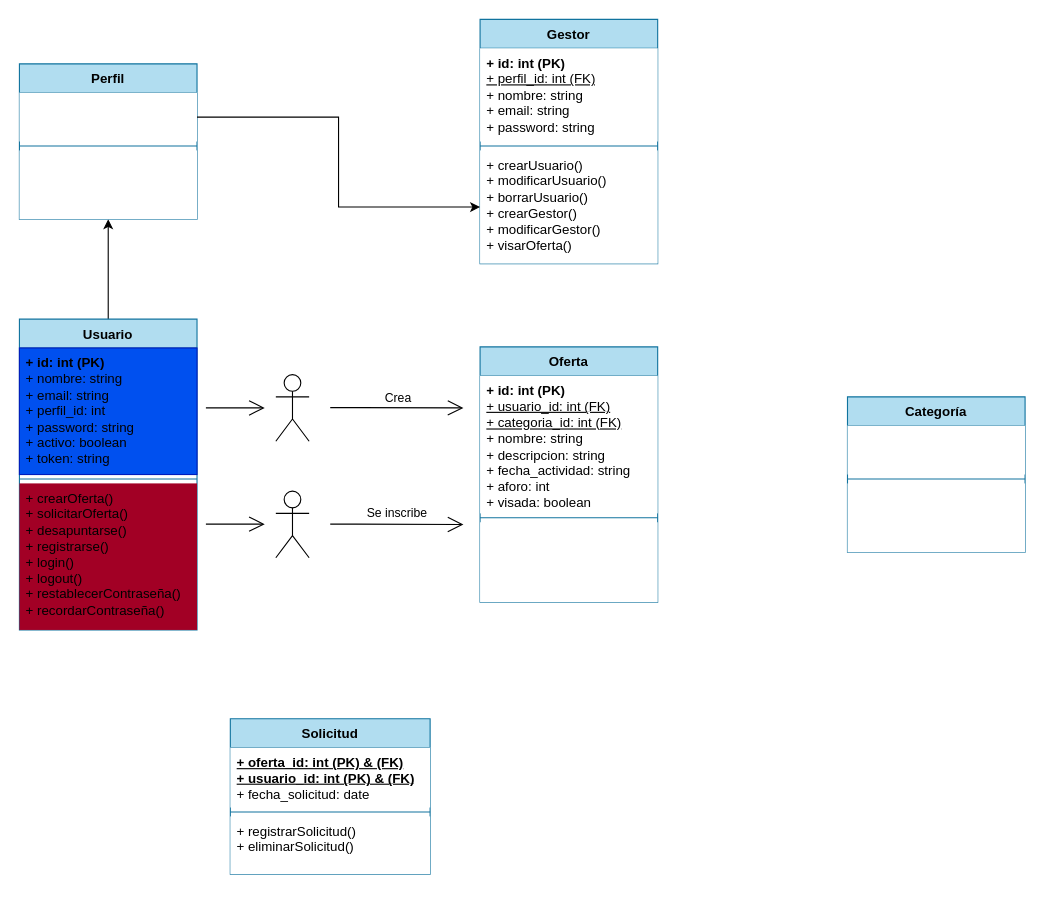
The diagram is 1045 pixels wide and 897 high, and some of its shapes have lost their labels. Each missing label, with the centre of its shape:
"+ asignarPerfil() + modificarPerfil() + eliminarPerfil()" goes at (x=107, y=184).
"+ crearCategoria() + modificarCategoria() + eliminarCategoria()" goes at (x=936, y=517).
"+ id: int (PK) + categoria: string" goes at (x=936, y=449).
"+ id: int (PK) + perfil: string" goes at (x=107, y=116).
"+ recibirSolicitud() + borrarOferta() + modificarOferta() + visarOferta()" goes at (x=568, y=562).
"Demandante" goes at (x=292, y=524).
"Ofertante" goes at (x=292, y=407).
